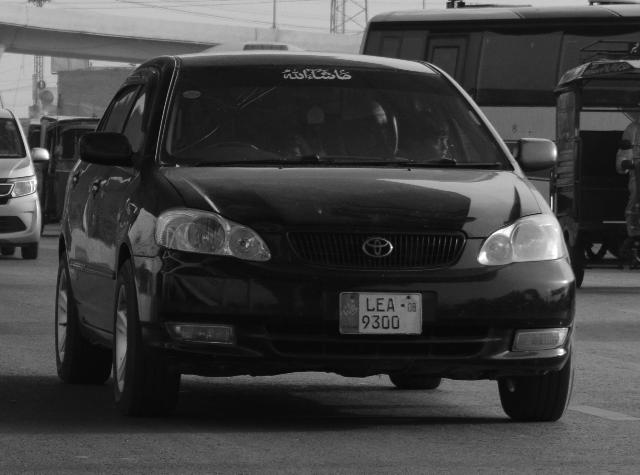Number: (361, 298, 405, 330)
